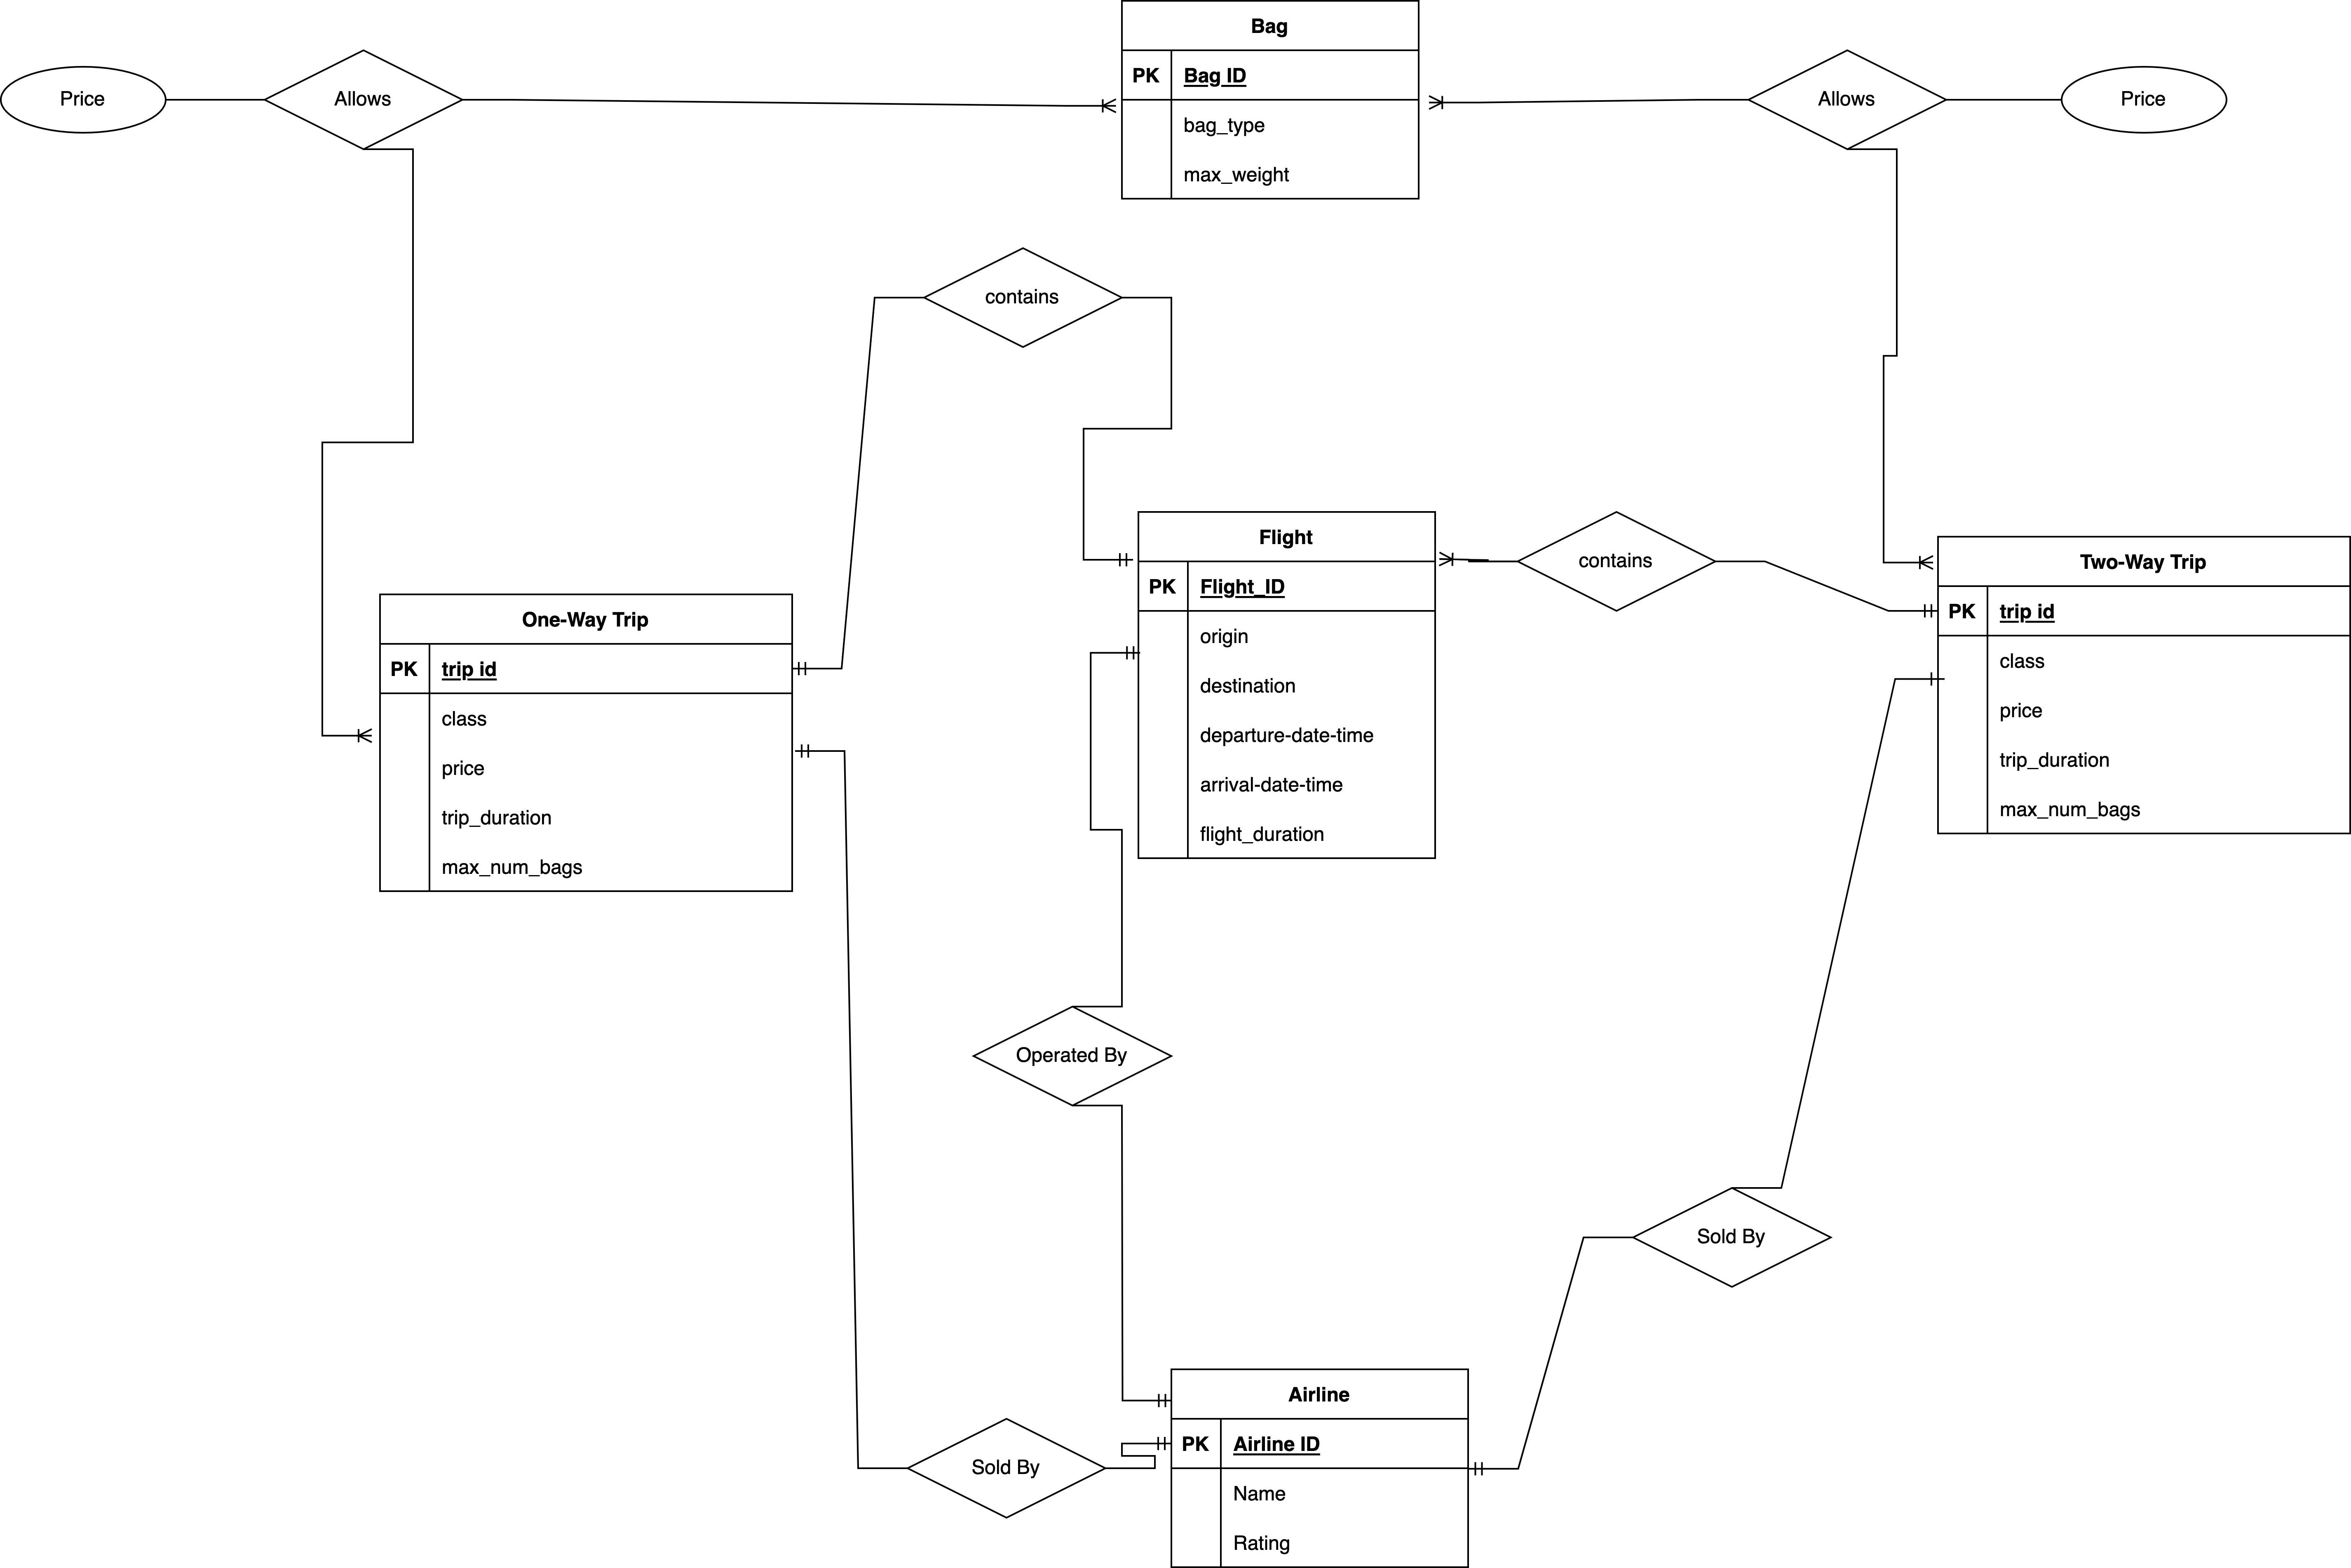attribute: (2064, 68, 2225, 135), (0, 70, 170, 129)
entity: (1931, 532, 2351, 842), (376, 590, 796, 898), (1132, 511, 1440, 863), (1167, 1361, 1469, 1568), (1121, 0, 1427, 203)
relationship: (924, 247, 1121, 348), (974, 1004, 1169, 1108), (906, 1417, 1102, 1517), (269, 49, 458, 150), (1751, 56, 1943, 152), (1639, 1186, 1828, 1284), (1522, 513, 1706, 612)
